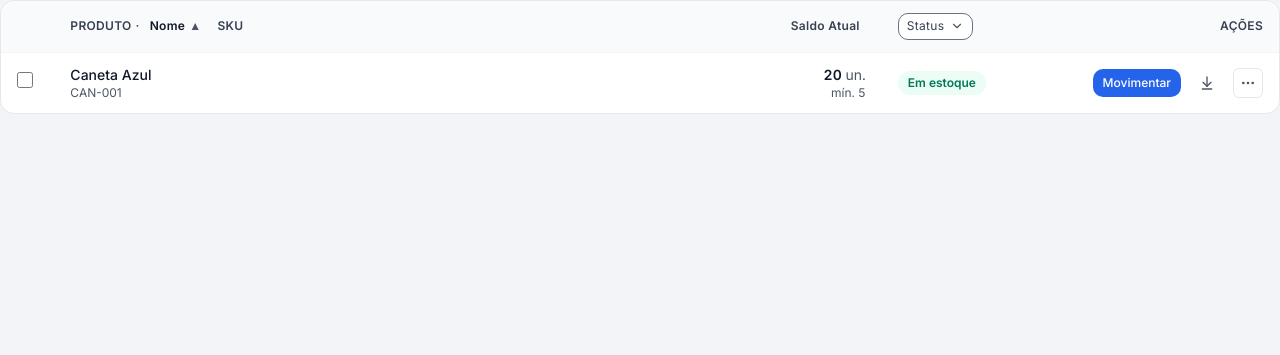
ProductsTable — ações da linha (PT-7) › PT-7 · o menu de overflow do desktop NÃO repete a baixa rápida
Click the button named "Mais ações para Caneta Azul" at (1248, 83), box [1233,68,1263,98]
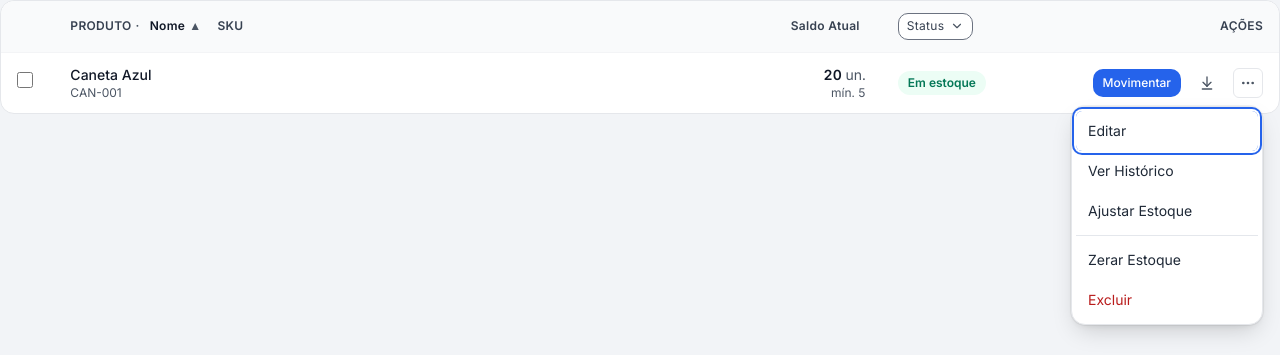
Now the menu is shown, box [1071,106,1263,325]
